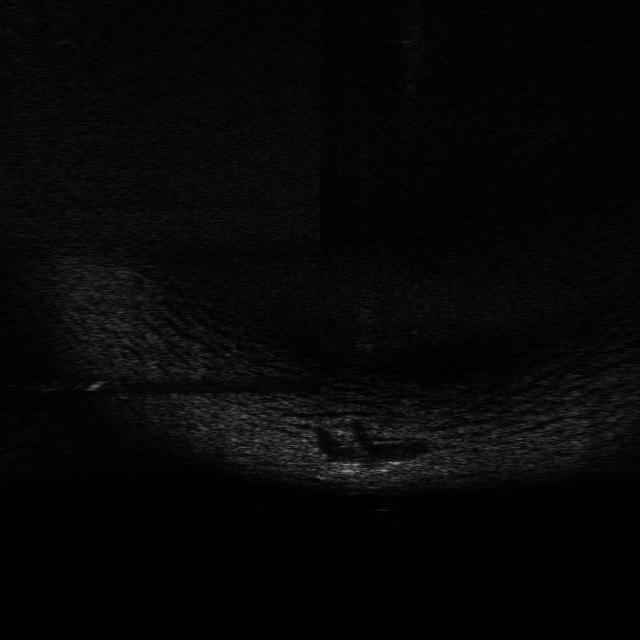plane: (314, 458, 406, 482)
